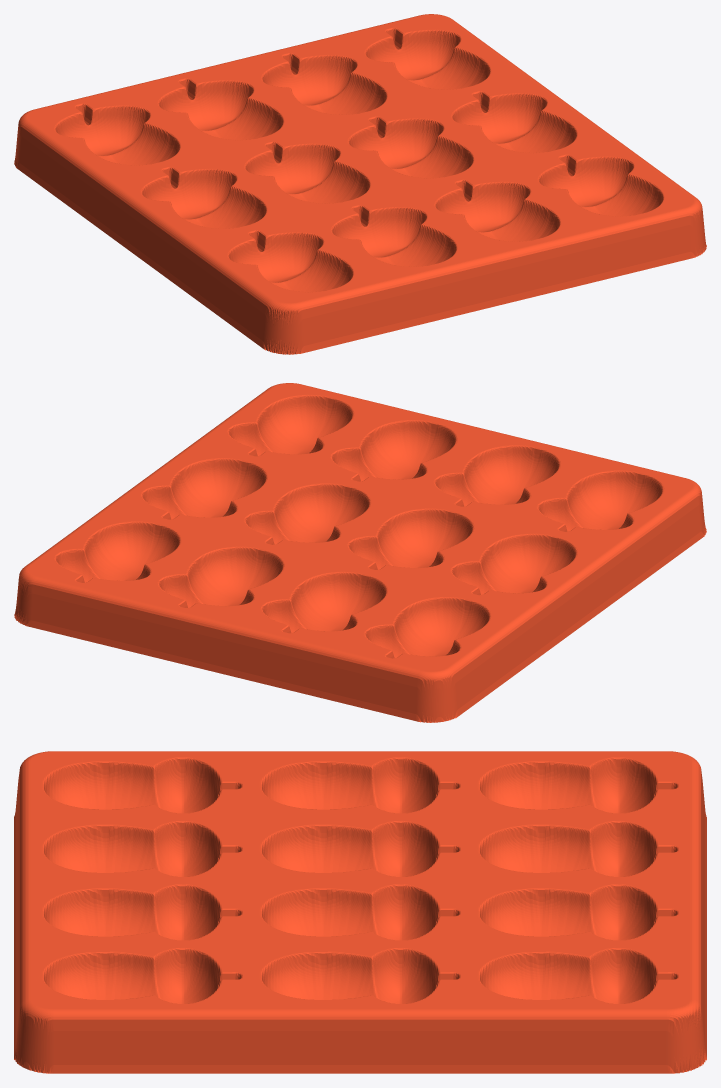
File: mold.glb
3 views of the same model, one above another, from view 1: azimuth 30°, elevation 25°; view 2: azimuth 150°, elevation 25°; view 3: azimuth 270°, elevation 25° (orthographic). The views are drawn at different scales.
Visible parts, largest first — view 1: geometry_0; view 2: geometry_0; view 3: geometry_0.
Boxes of the visible parts, x1,y1,x2,y2 form: geometry_0: (14,14,706,354); geometry_0: (14,383,706,722); geometry_0: (14,751,706,1073).
Bounding box in the file's own units: 0.1455 × 0.0145 × 0.1575.
